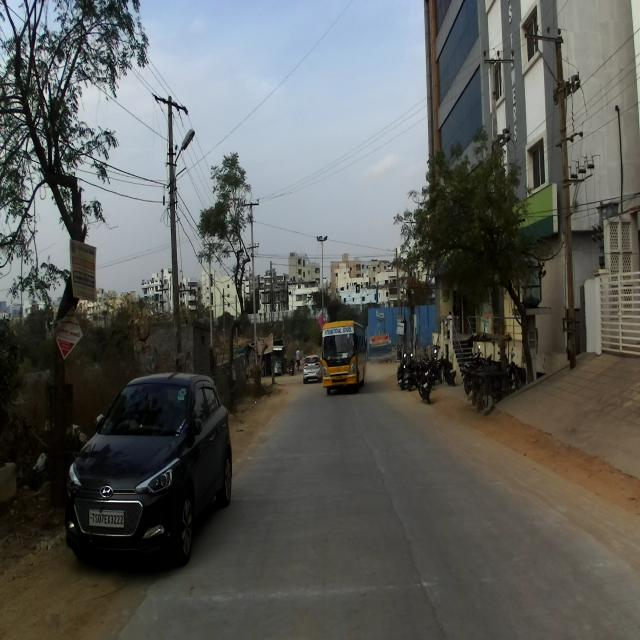bus ahead at: (318, 314, 368, 392)
car ahead at: (72, 364, 236, 572)
